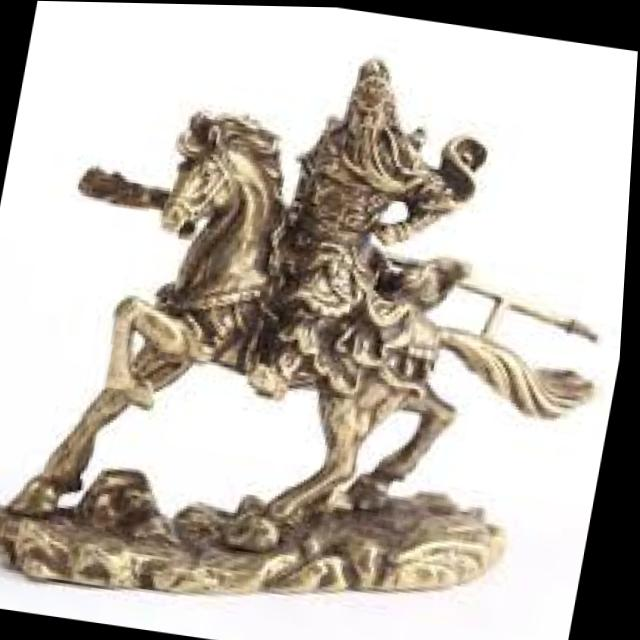Guan Yu: (259, 44, 473, 348)
